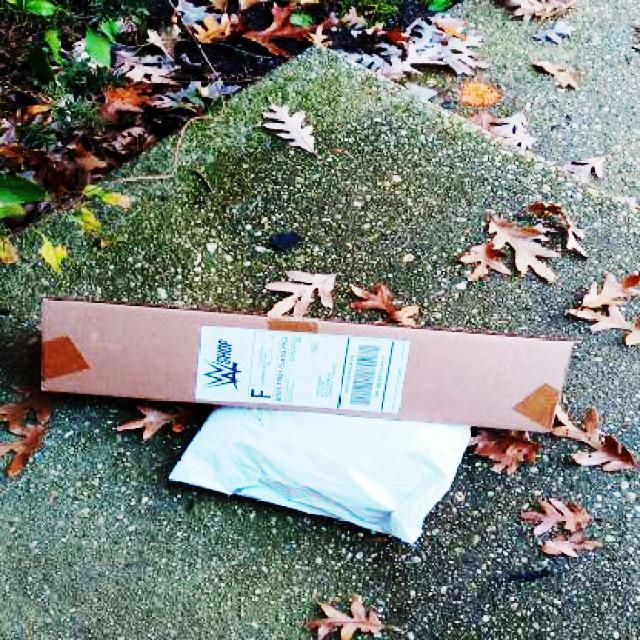Box: (40, 297, 574, 432), (168, 407, 470, 545)
